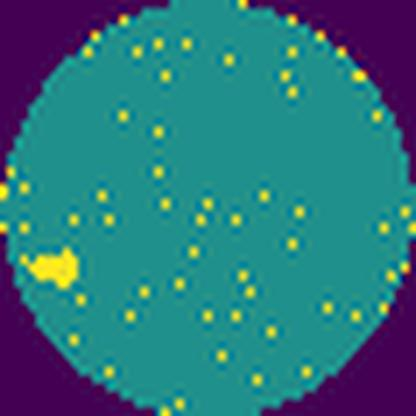Loc: (22, 250, 82, 286)
